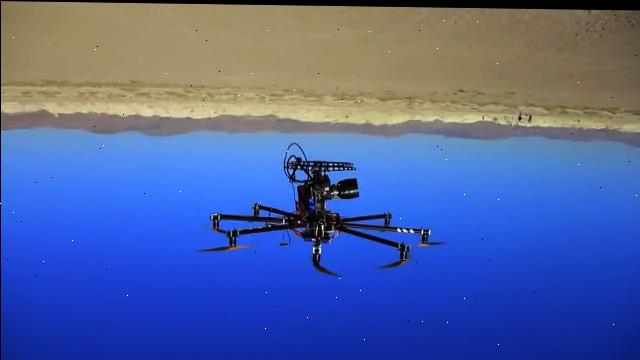drone: (204, 153, 436, 276)
